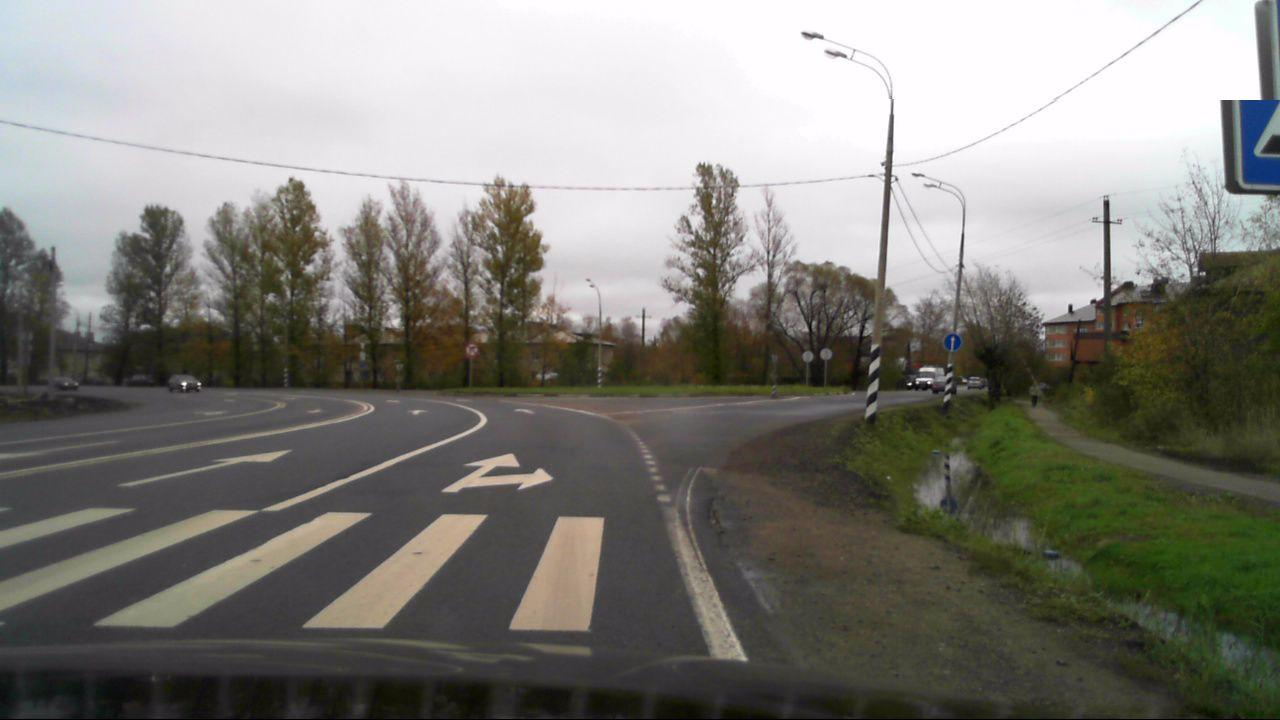road_sign: (943, 332, 962, 350)
